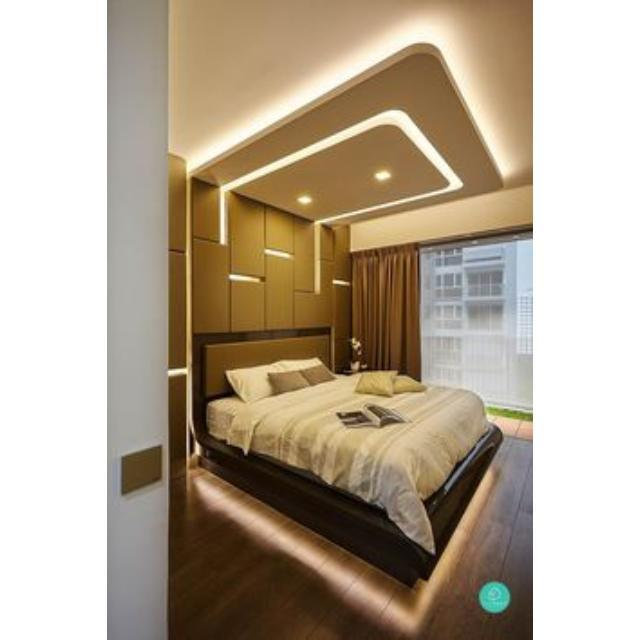bed: (195, 334, 503, 584)
curtain: (353, 247, 419, 378)
